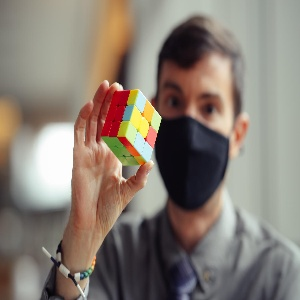cube: (100, 88, 162, 167)
